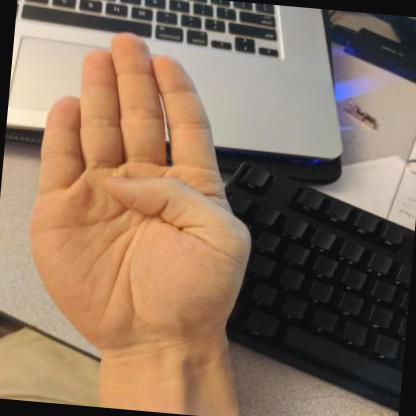B: (29, 33, 251, 369)
